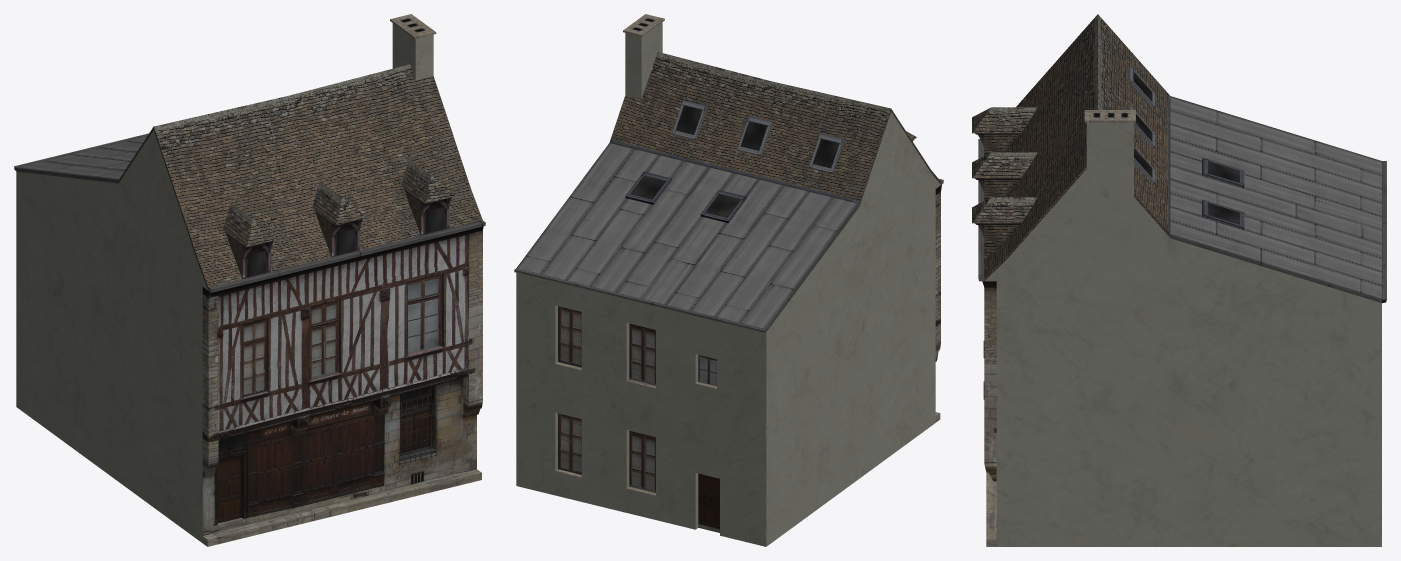
Rendered from dijon_shop_2_france.glb.
3 renders of one model, left to right at view 1: azimuth 30°, elevation 25°; view 2: azimuth 150°, elevation 25°; view 3: azimuth 270°, elevation 25°, orthographic. The views are drawn at different scales.
Visible parts, largest first — view 1: 2 2.0_2 2.0_0; view 2: 2 2.0_2 2.0_0; view 3: 2 2.0_2 2.0_0.
Part boxes in pixels (<box>): 2 2.0_2 2.0_0: <box>14,14,485,546</box>; 2 2.0_2 2.0_0: <box>514,14,943,546</box>; 2 2.0_2 2.0_0: <box>972,14,1386,546</box>.
Bounding box in the file's own units: 8.05 × 11.5 × 10.12.
1 material, 1 textured.
